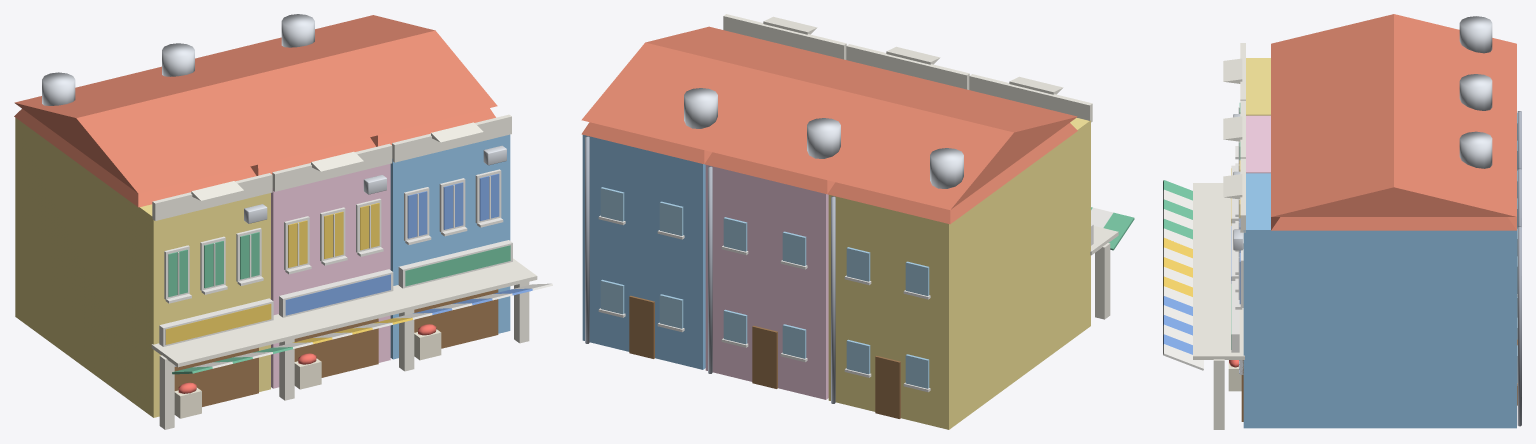
File: Bld_ShopRowC.fbx
The picture shows the model from 3 angles, left to right: view 1: azimuth 30°, elevation 25°; view 2: azimuth 150°, elevation 25°; view 3: azimuth 270°, elevation 25°; orthographic projection. The views are drawn at different scales.
Parts seen in each view (by area): view 1: Bld_ShopRowC; view 2: Bld_ShopRowC; view 3: Bld_ShopRowC.
Boxes of the visible parts, x1,y1,x2,y2 form: Bld_ShopRowC: [14, 14, 552, 429]; Bld_ShopRowC: [581, 14, 1134, 429]; Bld_ShopRowC: [1163, 14, 1521, 429].
Size of the model in its own units: 15.2 by 9.85 by 13.13.
